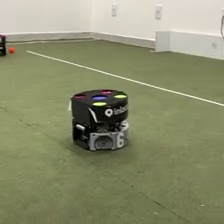ball: (8, 46, 15, 53)
goal: (153, 29, 224, 59)
robot: (69, 85, 131, 152), (1, 32, 7, 58)
